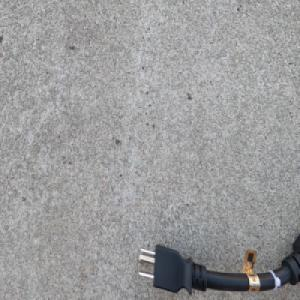Wire: (136, 229, 300, 298)
